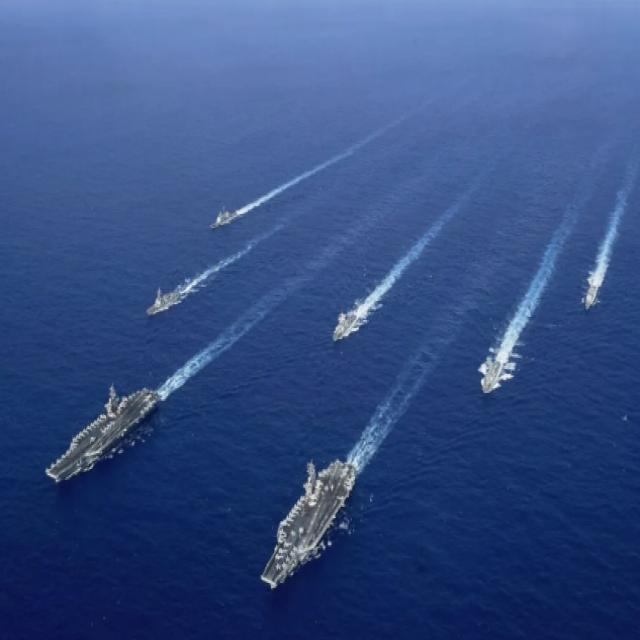navalvessels: (256, 437, 364, 606), (40, 363, 164, 489), (468, 322, 520, 394), (137, 276, 193, 313), (326, 288, 368, 334), (578, 267, 600, 316), (209, 198, 236, 232)
